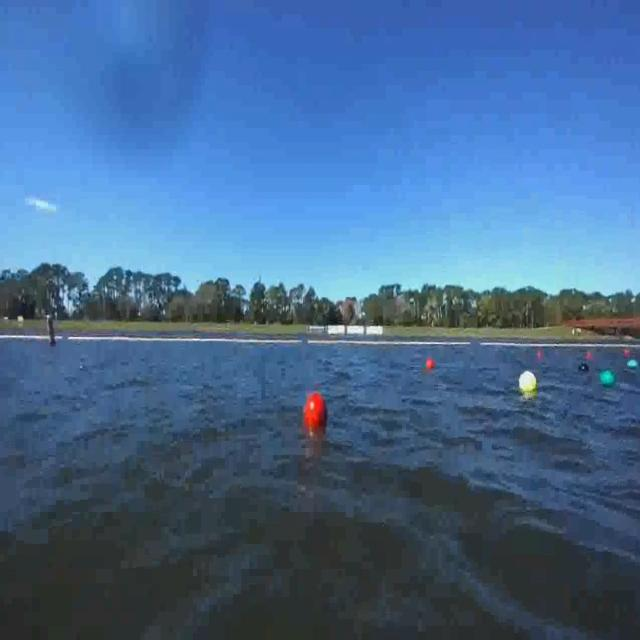black-buoy: (580, 362, 592, 372)
green-buoy: (600, 372, 614, 388), (626, 360, 640, 370)
red-buoy: (305, 394, 328, 433), (426, 358, 435, 371)
yellow-buoy: (521, 370, 541, 394)
